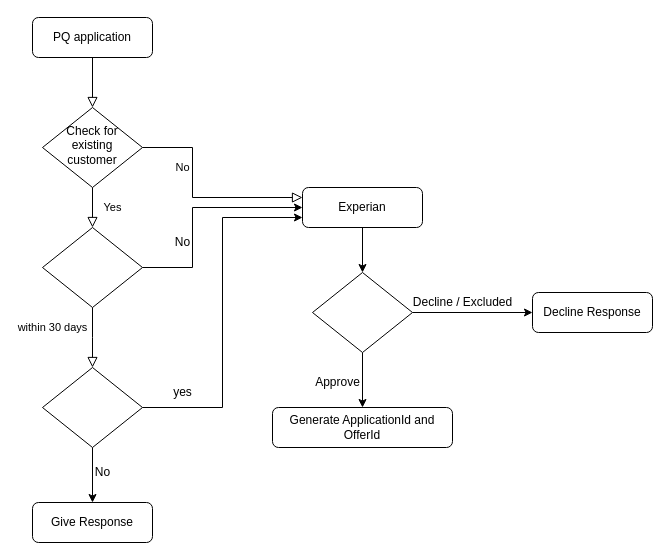
Some shapes in this 670 by 560 pixel diagram are drawn without their labels. The shapes that lost their labels are listed below. From the top down, each one's centre as x and y in pixels, then its label:
At (x=92, y=267): "Check for previous experian".
At (x=362, y=312): "Hit Experian".
At (x=92, y=407): "Excluded".
